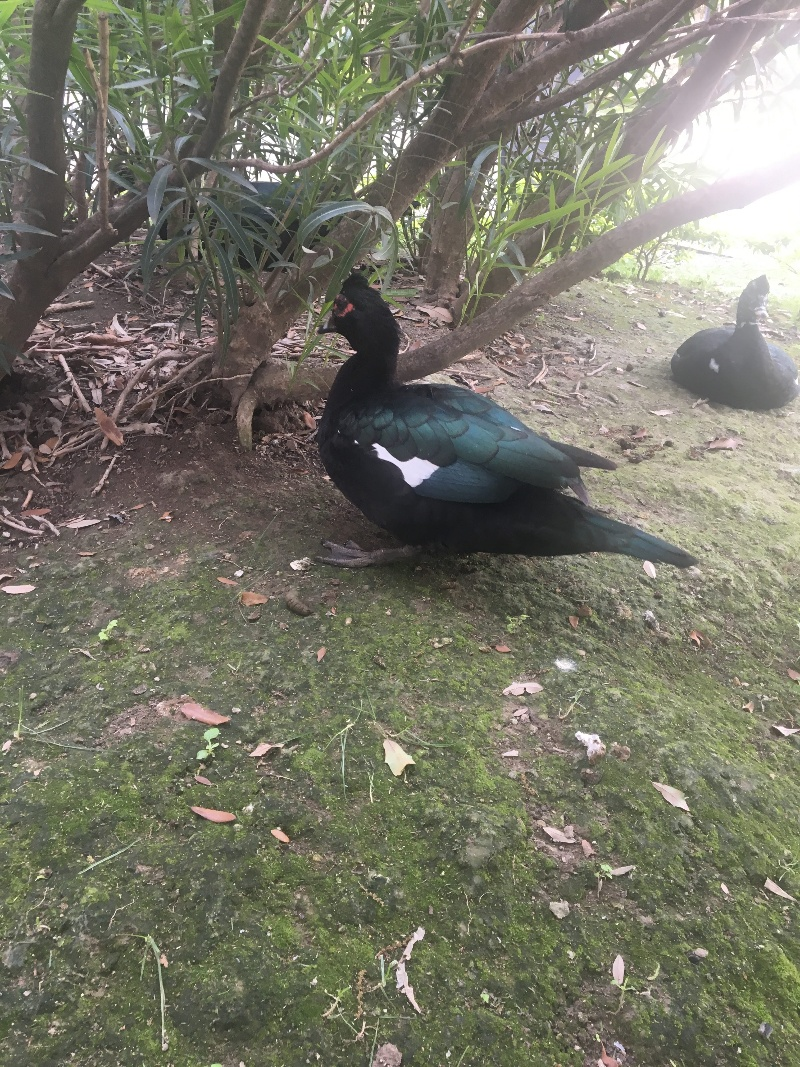pato: (318, 279, 701, 590), (682, 277, 791, 401)
